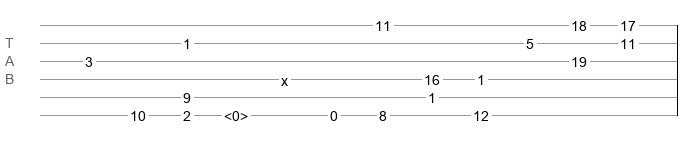0: (330, 108, 338, 118)
1: (183, 36, 191, 46), (428, 90, 436, 100), (477, 72, 485, 82)
10: (130, 108, 146, 118)
11: (375, 18, 391, 28), (620, 36, 636, 46)
12: (473, 108, 489, 118)
16: (424, 72, 440, 82)
17: (620, 18, 636, 28)
18: (571, 18, 587, 28)
19: (571, 54, 587, 64)
2: (183, 108, 191, 118)
3: (85, 54, 93, 64)
5: (526, 36, 534, 46)
8: (379, 108, 387, 118)
9: (183, 90, 191, 100)
harmonic: (224, 108, 248, 118)
x: (281, 73, 288, 81)
